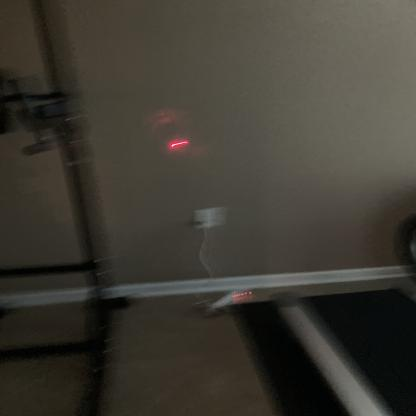target: (167, 136, 193, 150)
